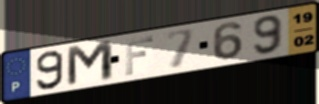6: (211, 20, 245, 63)
7: (165, 26, 196, 71)
9: (252, 14, 285, 56), (35, 49, 65, 91)
F: (124, 34, 156, 77)
M: (64, 38, 116, 89)
